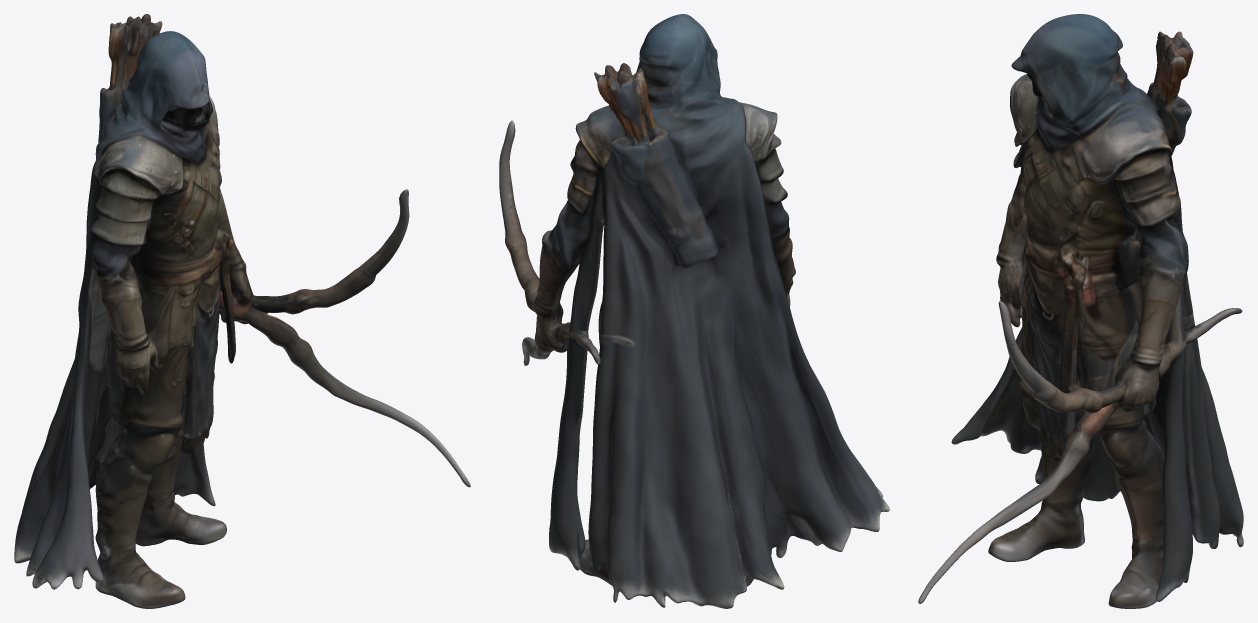
The model's file is Shadowed_Archer_in_th_0916224007_texture.fbx.
3 renders of one model, left to right at view 1: azimuth 30°, elevation 25°; view 2: azimuth 150°, elevation 25°; view 3: azimuth 270°, elevation 25°, orthographic. The views are drawn at different scales.
Visible parts, largest first — view 1: Mesh1.0; view 2: Mesh1.0; view 3: Mesh1.0.
Part boxes in pixels (x1=…): Mesh1.0: x1=14, y1=14, x2=470, y2=608; Mesh1.0: x1=499, y1=14, x2=889, y2=608; Mesh1.0: x1=918, y1=14, x2=1243, y2=608.
Size of the model in its own units: 154 by 200 by 105.
1 material, 1 textured.
